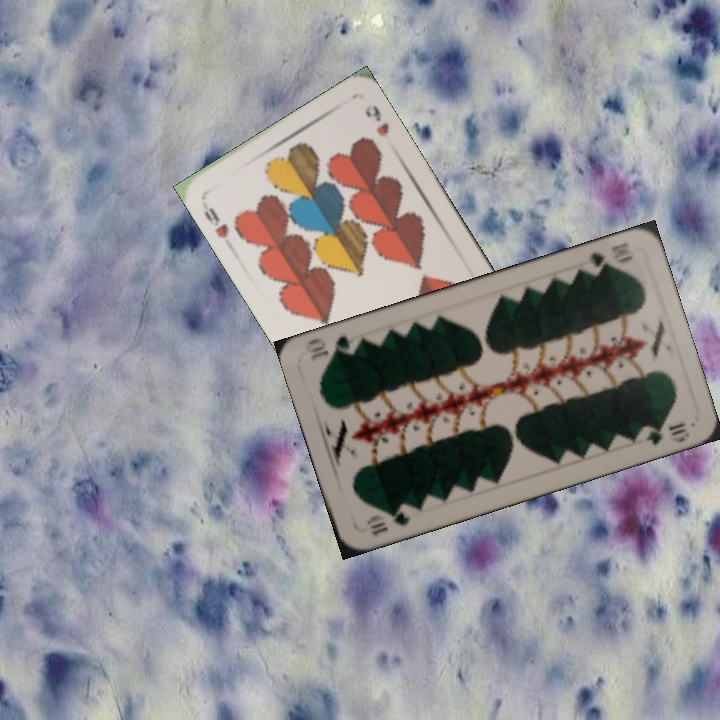G10: (362, 504, 413, 540), (581, 248, 636, 277)
H9: (199, 203, 231, 241)
